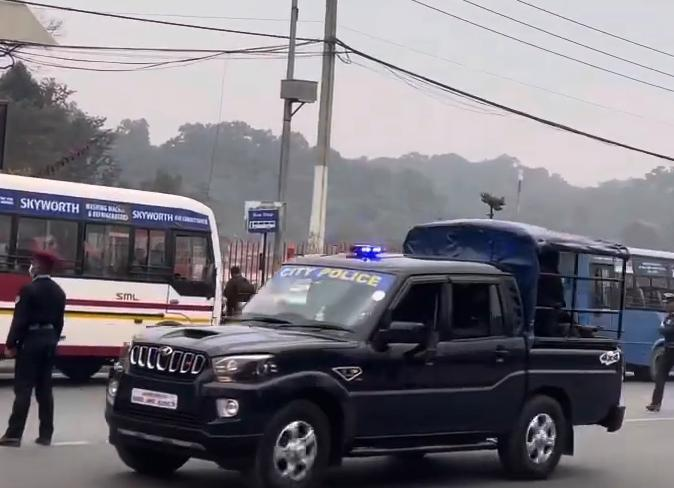police_vehicle: (95, 214, 630, 488)
